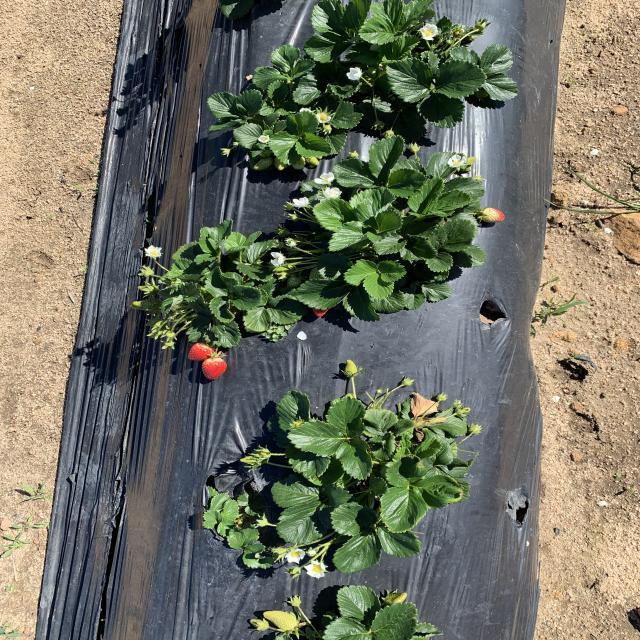unripe: (309, 288, 332, 320), (202, 358, 226, 381), (188, 342, 217, 361)
